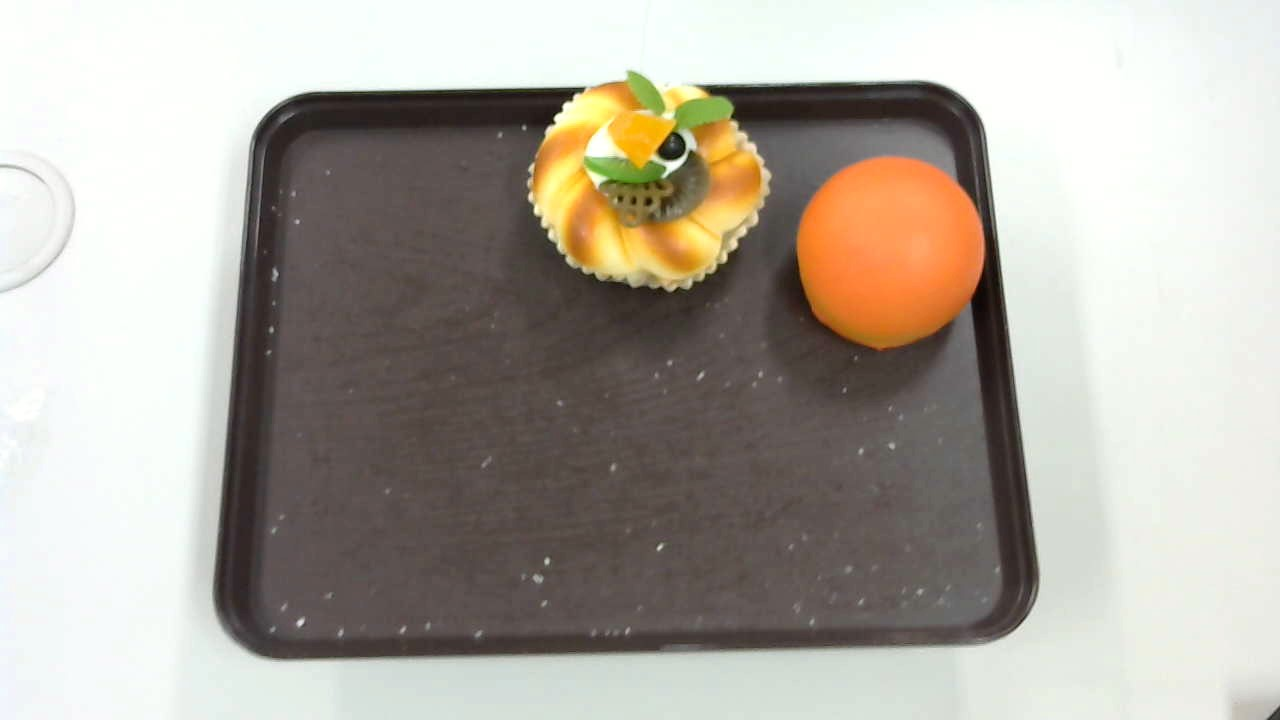bun: (798, 155, 986, 349)
fruit tart: (527, 69, 770, 295)
